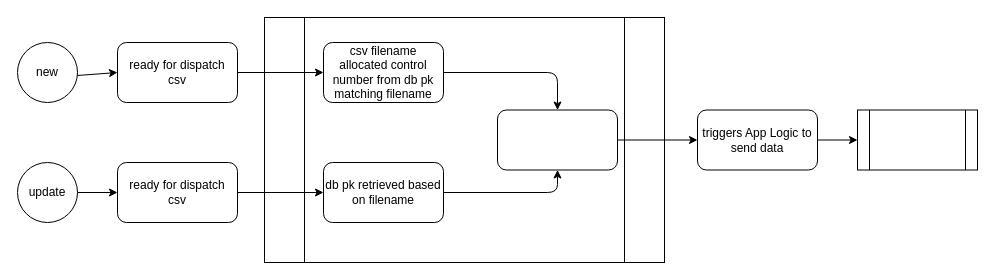
Image size: 995x280. Some labels were removed from this diagram. The shapes that lost their labels are listed below. From the top down, each one's box as (x1, y1, x2, y2) in pixels, then its label:
(264, 16, 664, 262): App logic for control id (out of scope)
(496, 109, 618, 170): file sent to blob storage
(856, 109, 978, 170): App Logic to send data (built)
